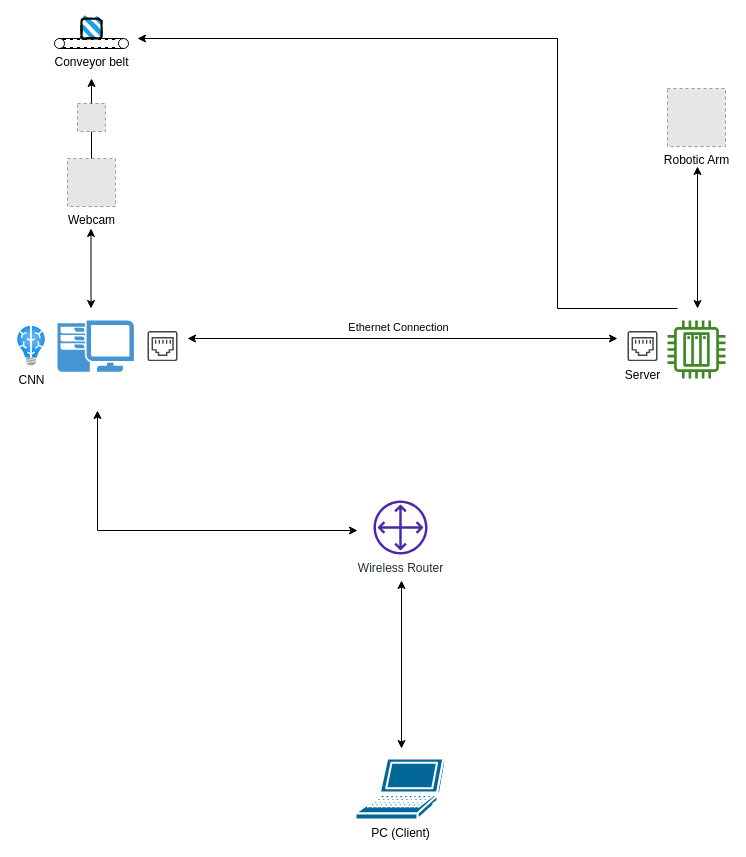
Image size: 746x857. Some labels were removed from this diagram. Grey dashed boxes stand in for pictures. The box of each missing label's shape, as (x1, y1, x2, y2) in pixels:
Client: (147, 331, 177, 361)
Lab PC (Server): (57, 320, 133, 371)
PLC: (667, 320, 725, 378)
